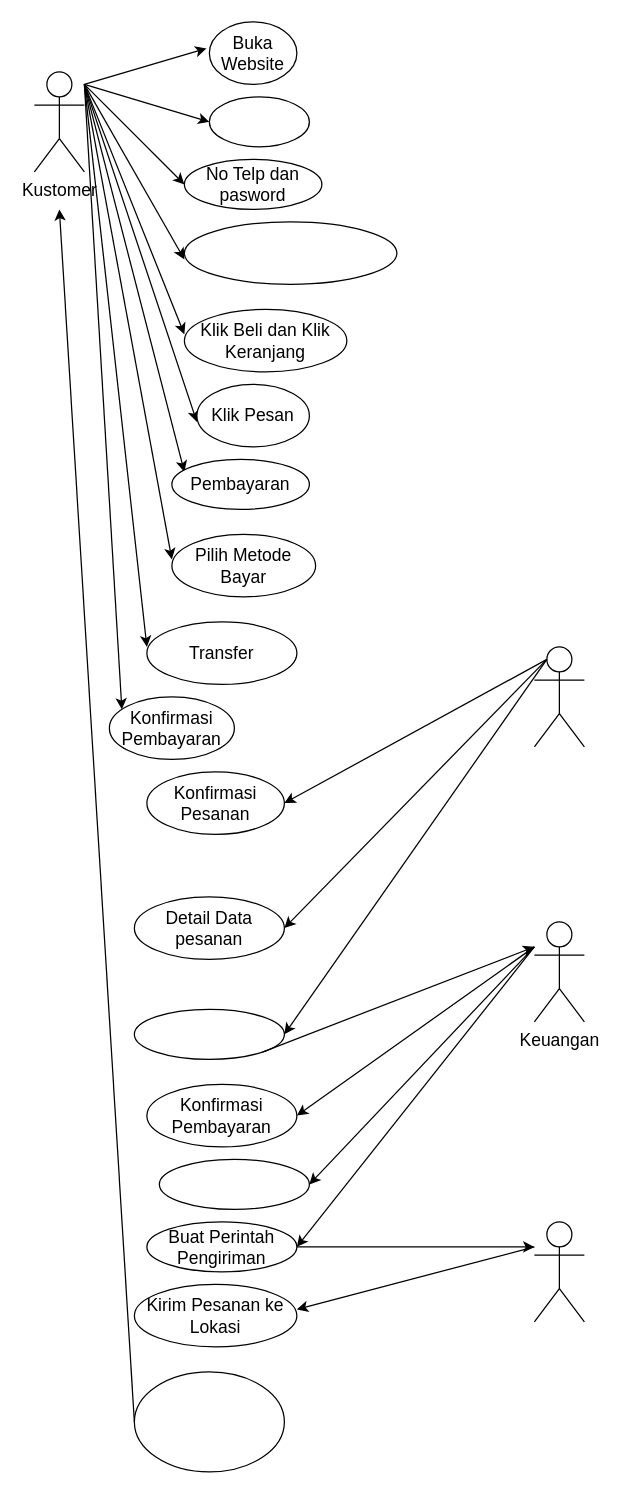
This 620x1494 diagram has some shape labels left out. Each missing label, with the centre of its shape:
Admin: the point at 558,696
Buat Informasi pesanan: the point at 208,1033
Klik Menu pilih makanan dan minuman: the point at 290,252
Kurir: the point at 558,1271
Login: the point at 258,121
PESANAN DITERIMA: the point at 208,1421
Proses Pemesanan: the point at 233,1183
